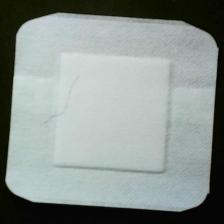Dressing: (3, 14, 224, 214)
F_Body: (38, 73, 86, 130)
